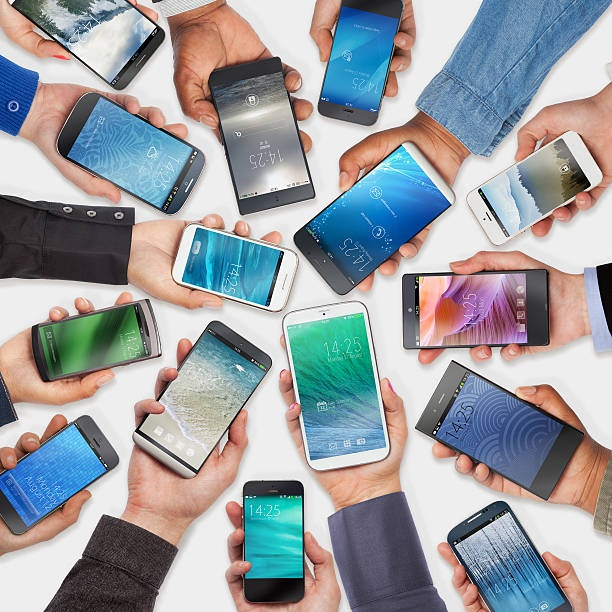phone: (293, 140, 456, 297), (414, 359, 584, 503), (132, 319, 273, 482), (54, 91, 207, 218), (282, 300, 392, 472), (206, 55, 317, 217), (464, 130, 605, 246), (444, 500, 574, 612), (1, 414, 118, 537), (6, 1, 167, 88), (169, 222, 299, 315), (401, 269, 552, 347), (30, 297, 164, 381), (317, 1, 405, 127), (242, 479, 306, 603)
